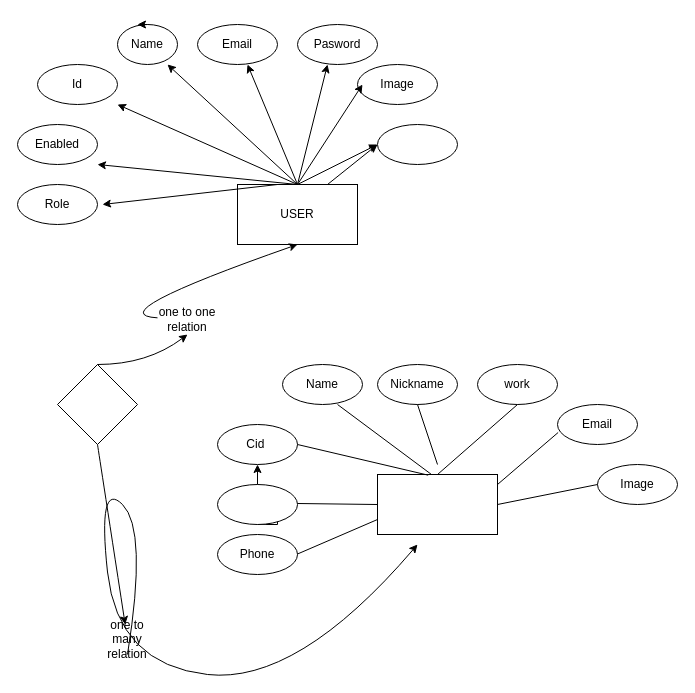
Image size: 695x693. Some labels were removed from this diagram. The box of each missing label's shape, as (x1, y1, x2, y2) in pixels:
about: (376, 124, 458, 164)
CONTACT: (376, 474, 498, 534)
description: (216, 484, 298, 524)
Has: (56, 364, 138, 444)
